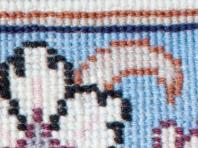Knot: (88, 91, 97, 103), (124, 47, 133, 59), (71, 72, 80, 84), (7, 106, 17, 115), (46, 59, 55, 69), (7, 115, 17, 124), (102, 69, 111, 79), (63, 60, 73, 69), (80, 91, 88, 102), (125, 59, 134, 68), (50, 137, 59, 146), (101, 16, 110, 25), (65, 137, 74, 146), (62, 1, 71, 10), (22, 1, 31, 10), (105, 128, 114, 137), (64, 88, 73, 97), (81, 137, 90, 146), (80, 72, 88, 82), (15, 56, 23, 66), (120, 111, 130, 119), (7, 1, 15, 10), (73, 121, 81, 130), (62, 16, 70, 25), (82, 121, 90, 130), (86, 1, 94, 10), (86, 16, 94, 25), (104, 97, 112, 106), (104, 81, 112, 90), (55, 60, 63, 69), (91, 121, 99, 130), (90, 137, 98, 146), (106, 112, 114, 121), (87, 53, 95, 62), (150, 118, 158, 127), (8, 99, 18, 106), (133, 47, 140, 57), (45, 47, 56, 53), (95, 14, 101, 25), (185, 14, 193, 22), (15, 68, 23, 76), (90, 113, 98, 121), (82, 113, 90, 121), (72, 1, 79, 10), (97, 96, 104, 105), (58, 106, 65, 115), (171, 14, 178, 23), (161, 16, 170, 23), (98, 106, 105, 115), (113, 97, 120, 106), (112, 81, 119, 90), (15, 1, 22, 10), (190, 137, 197, 146), (96, 81, 103, 90), (98, 137, 105, 146), (25, 128, 32, 137), (24, 139, 33, 146), (21, 16, 30, 23), (151, 127, 158, 136), (149, 59, 156, 68), (59, 115, 66, 124), (101, 25, 110, 32), (178, 13, 184, 23), (141, 59, 149, 66), (33, 113, 40, 121), (41, 113, 48, 121), (54, 17, 61, 25), (125, 16, 133, 23), (17, 122, 24, 130), (50, 130, 58, 137), (8, 139, 16, 146), (57, 99, 65, 106), (78, 17, 85, 25), (71, 17, 78, 25), (44, 16, 52, 23), (41, 122, 48, 130), (181, 127, 189, 134), (159, 119, 166, 127), (6, 56, 14, 63), (140, 37, 147, 45), (125, 68, 133, 75), (133, 16, 139, 25), (79, 1, 85, 10), (57, 88, 63, 97), (175, 137, 181, 146), (134, 59, 140, 68), (59, 137, 65, 146), (181, 140, 190, 146), (73, 90, 79, 99), (17, 130, 24, 137), (149, 16, 156, 23), (140, 16, 147, 23), (117, 16, 124, 23), (18, 115, 25, 122), (72, 10, 79, 17), (14, 47, 21, 54), (74, 130, 81, 137), (33, 99, 40, 106), (30, 16, 37, 23), (90, 106, 97, 113), (83, 130, 90, 137), (190, 127, 197, 134), (152, 139, 159, 146), (126, 38, 133, 45), (149, 68, 156, 75), (50, 115, 58, 121), (141, 68, 149, 74), (50, 122, 58, 128), (22, 25, 30, 31), (175, 125, 180, 134), (17, 139, 23, 146), (38, 16, 44, 23), (59, 130, 65, 137), (113, 90, 119, 97), (135, 68, 141, 75), (112, 68, 118, 75), (185, 8, 192, 14), (79, 11, 85, 17), (14, 17, 20, 23), (117, 32, 123, 38), (193, 14, 197, 22), (192, 8, 197, 14), (140, 10, 147, 14), (149, 10, 156, 14)
